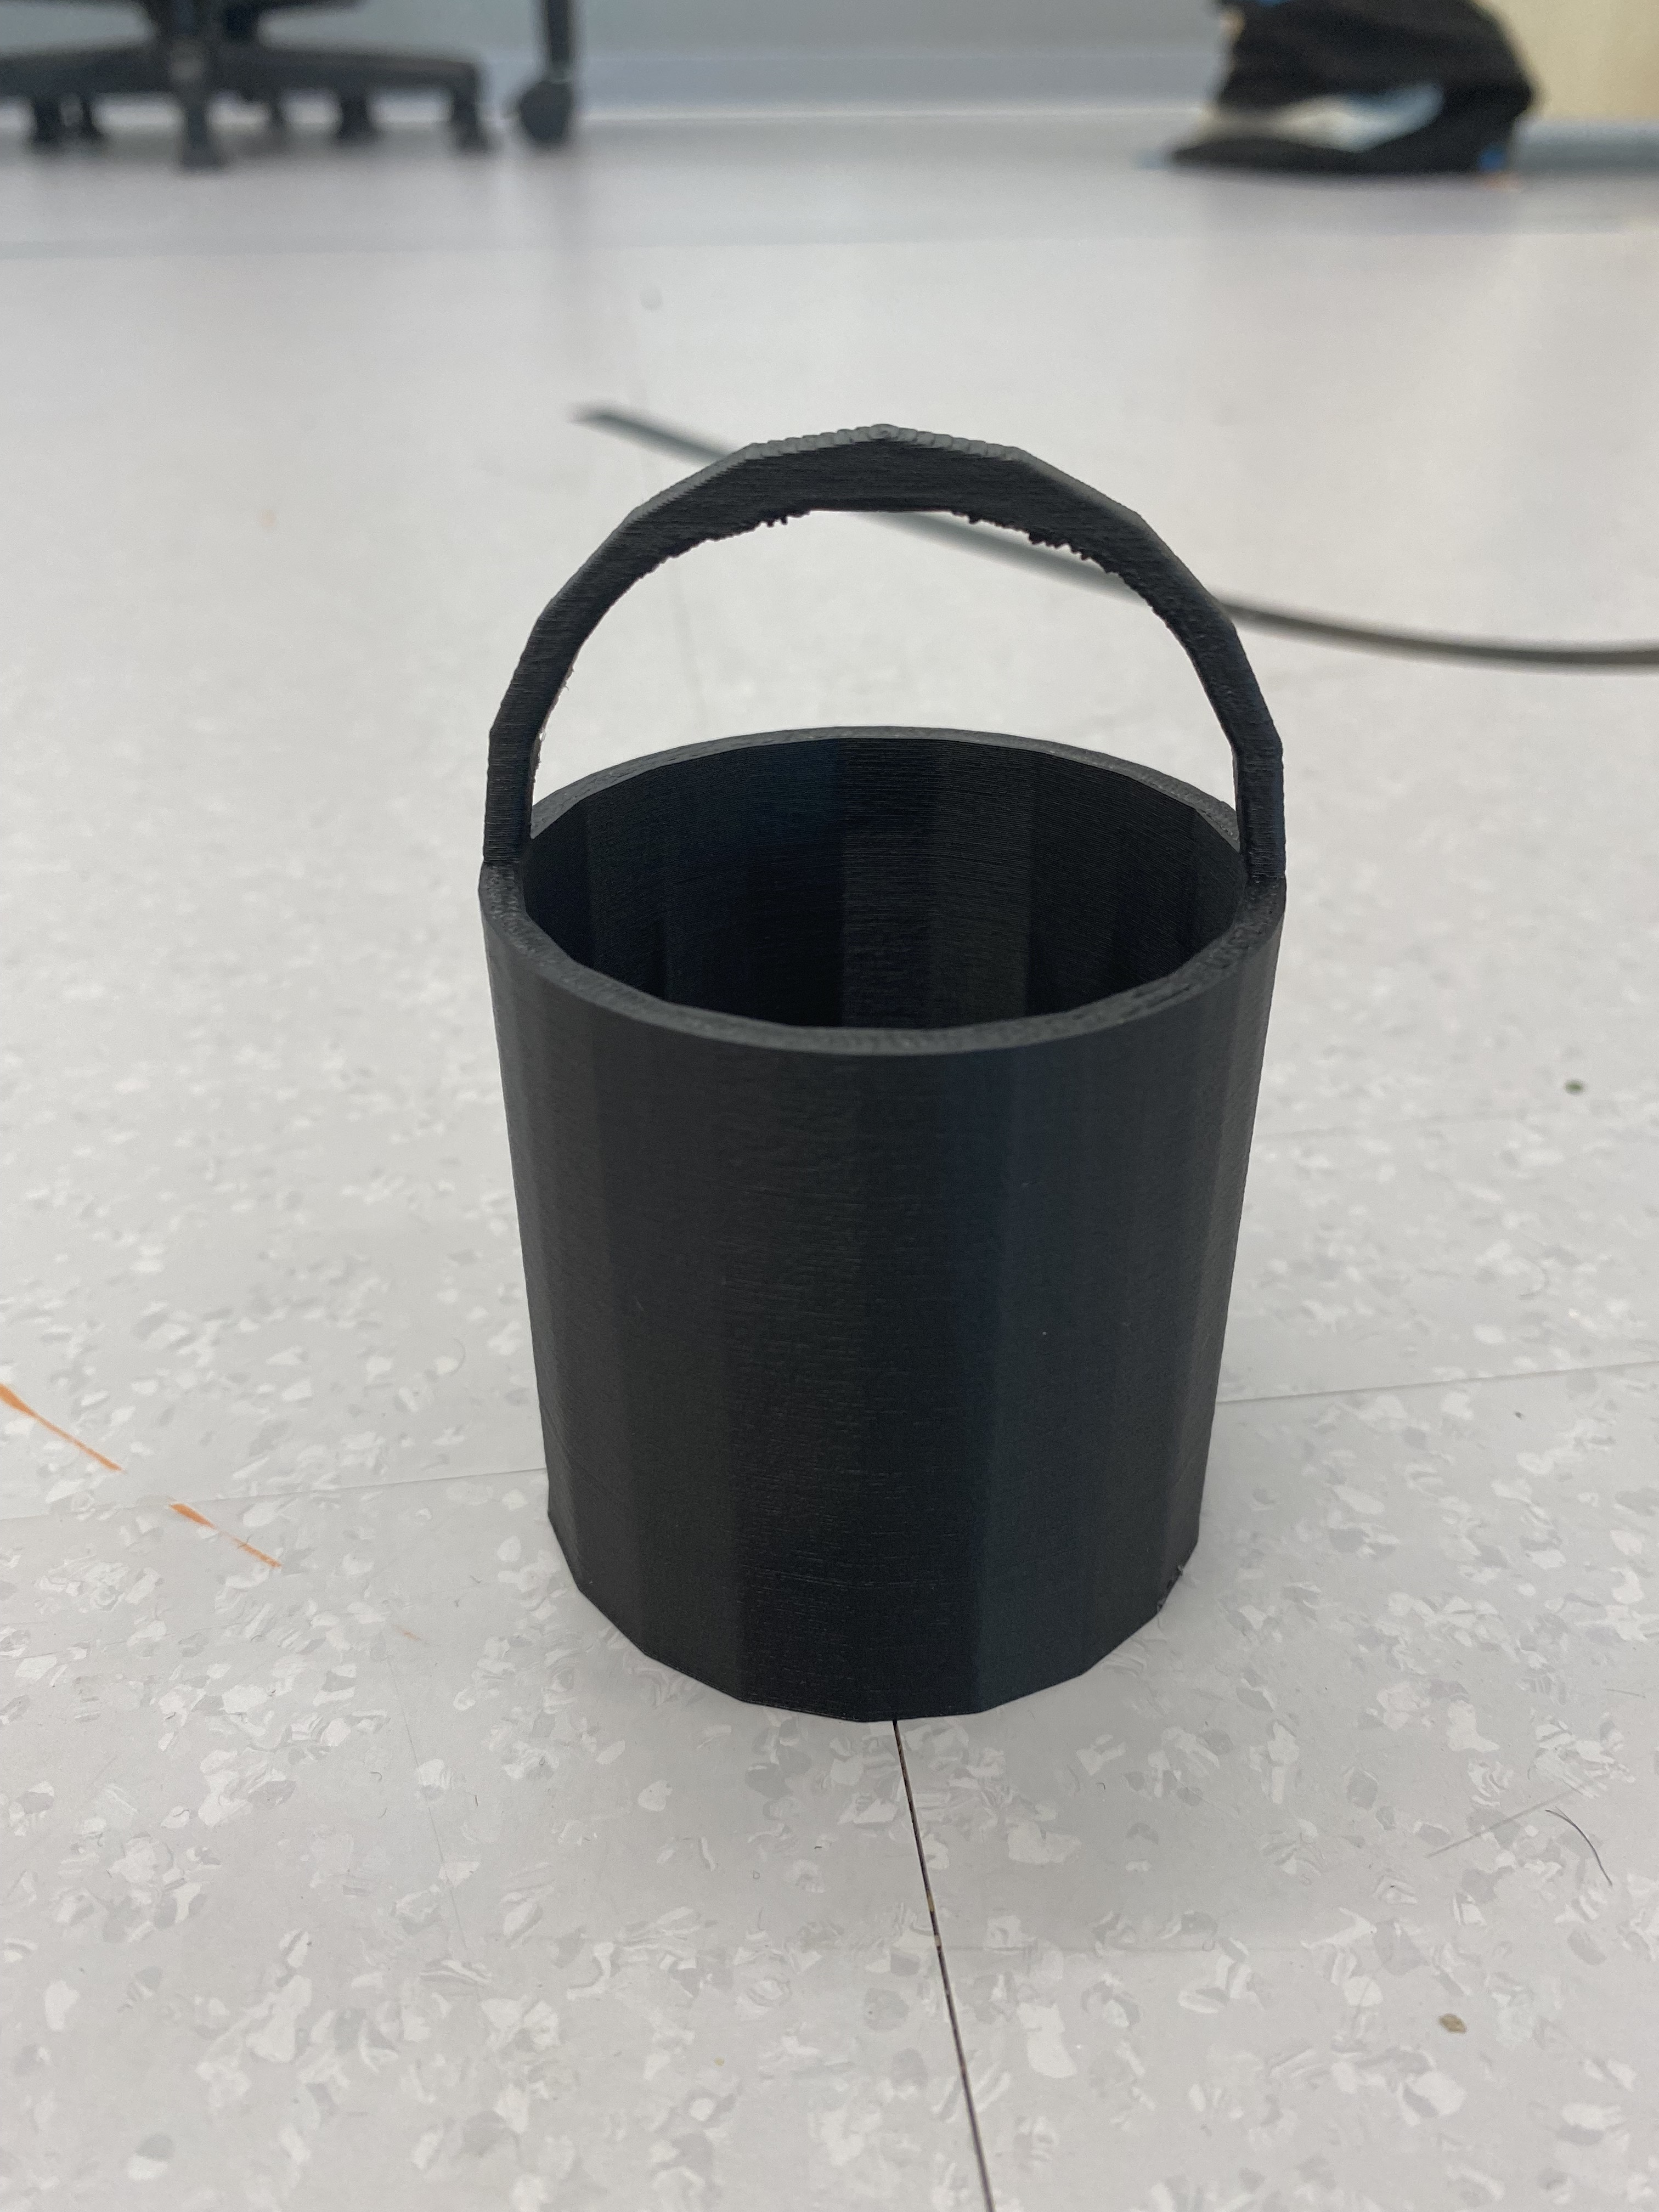bag: (465, 404, 1314, 1731)
